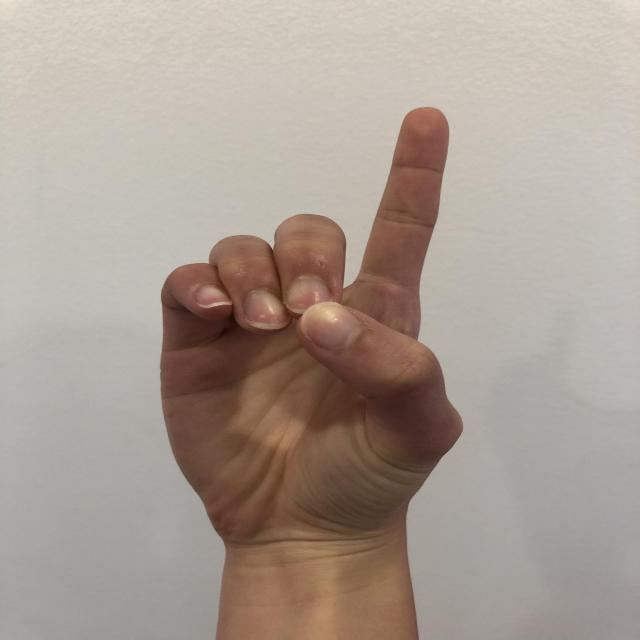D: (137, 100, 487, 549)
